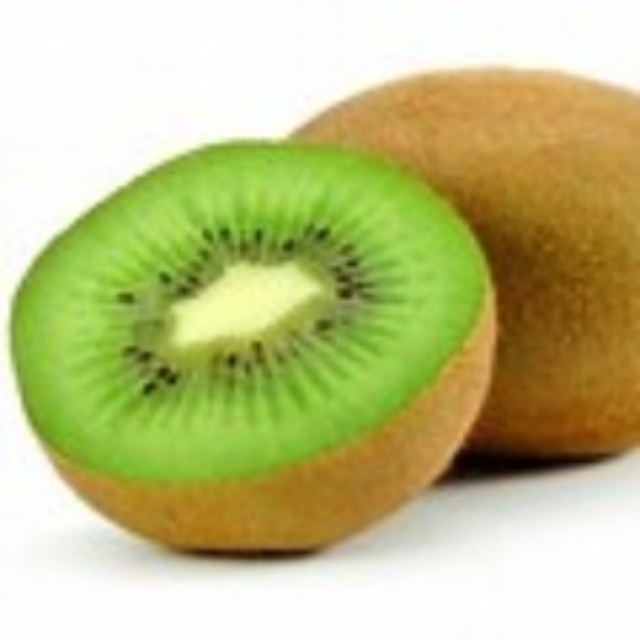kiwi: (14, 142, 497, 557), (278, 69, 639, 461)
